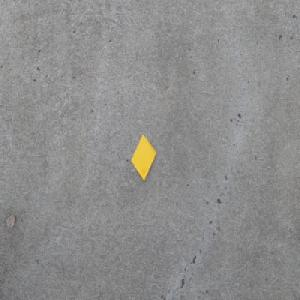PlasticPart: (130, 133, 156, 180)
